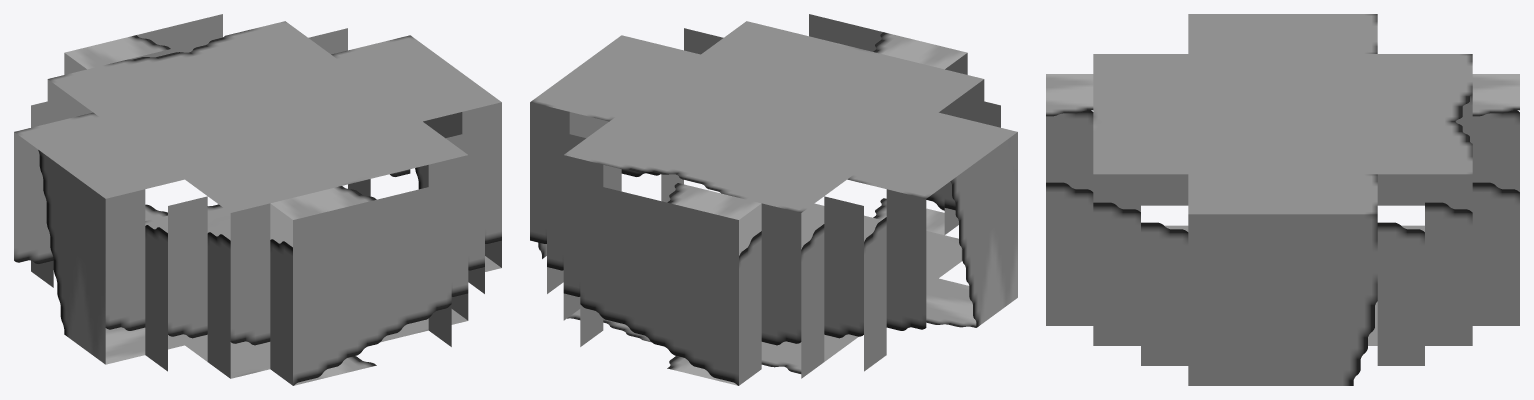
The model's file is Comida de Gato.obj.
The picture shows the model from 3 angles, left to right: view 1: azimuth 30°, elevation 25°; view 2: azimuth 150°, elevation 25°; view 3: azimuth 270°, elevation 25°; orthographic projection. The views are drawn at different scales.
Visible parts, largest first — view 1: Model; view 2: Model; view 3: Model.
Part boxes in pixels (bbox=[...]): Model: bbox=[14, 14, 501, 385]; Model: bbox=[530, 14, 1017, 385]; Model: bbox=[1046, 14, 1519, 385].
Bounding box in the file's own units: 32 × 12.8 × 32.
1 material, 1 textured.
